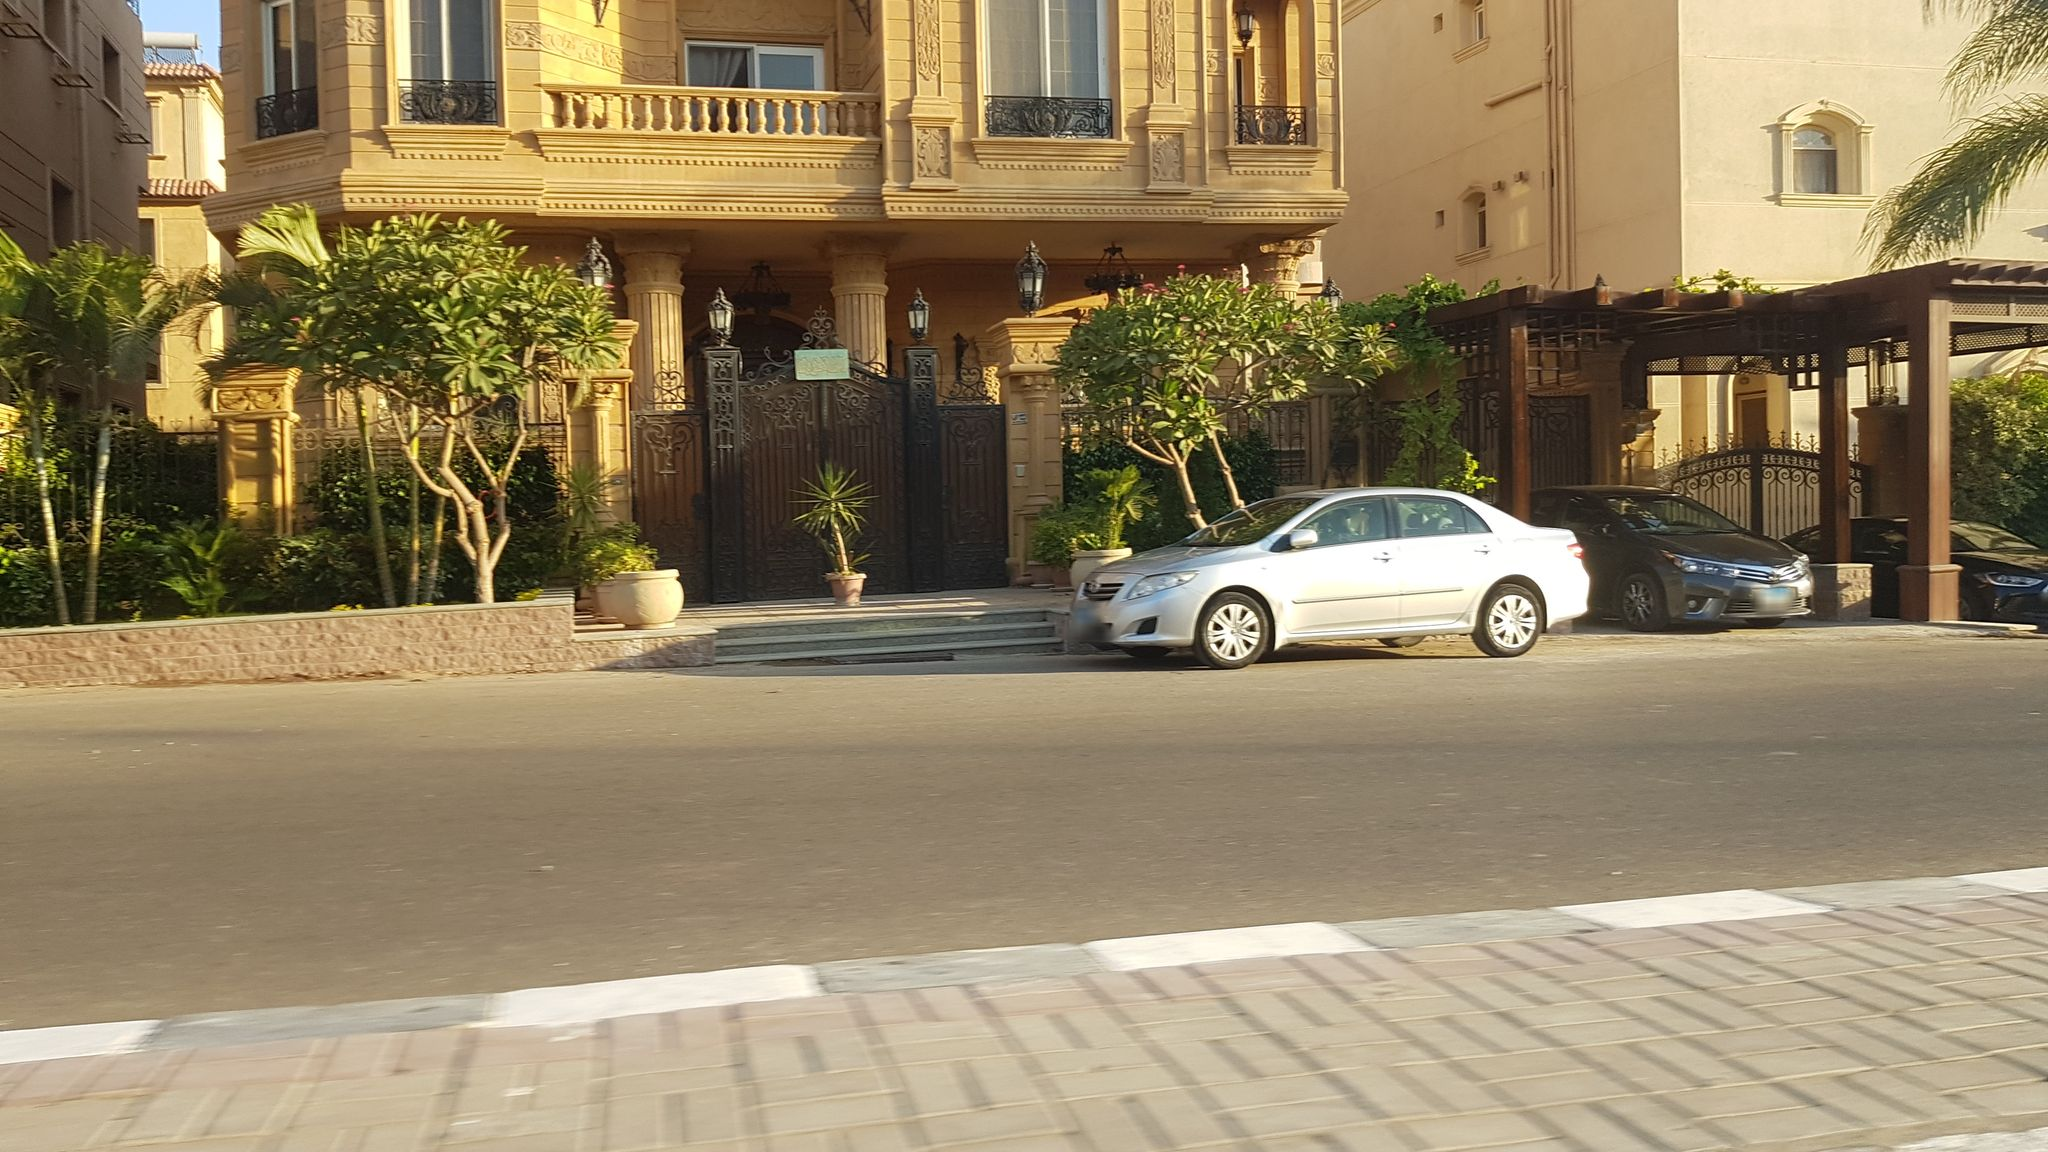car: (1065, 482, 1591, 672), (1530, 482, 1816, 633), (1782, 513, 2048, 620)
